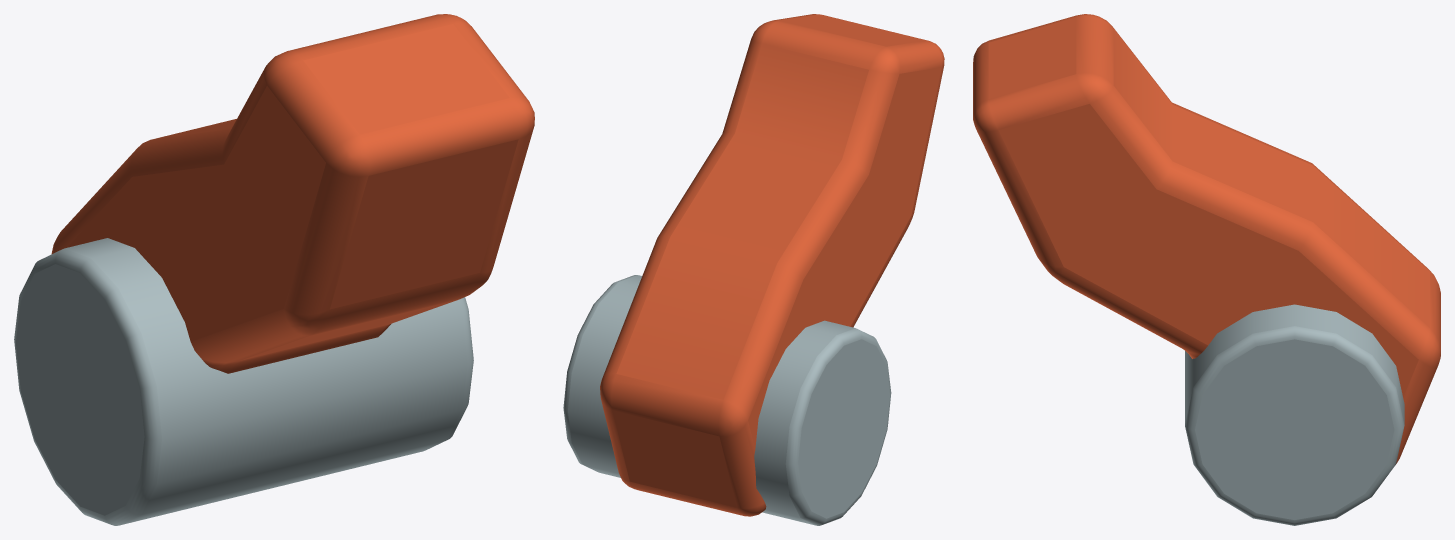
File: SM_Mk2_GuardLatch_L.fbx
3 views of the same model, side by side, from view 1: azimuth 30°, elevation 25°; view 2: azimuth 150°, elevation 25°; view 3: azimuth 270°, elevation 25° (orthographic). The views are drawn at different scales.
Parts seen in each view (by area): view 1: SM_Mk2_GuardLatch_L; view 2: SM_Mk2_GuardLatch_L; view 3: SM_Mk2_GuardLatch_L.
Part boxes in pixels (<box>): SM_Mk2_GuardLatch_L: <box>14,14,534,525</box>; SM_Mk2_GuardLatch_L: <box>563,14,944,525</box>; SM_Mk2_GuardLatch_L: <box>973,14,1440,525</box>.
Bounding box in the file's own units: 4.8 × 7.67 × 7.6.
